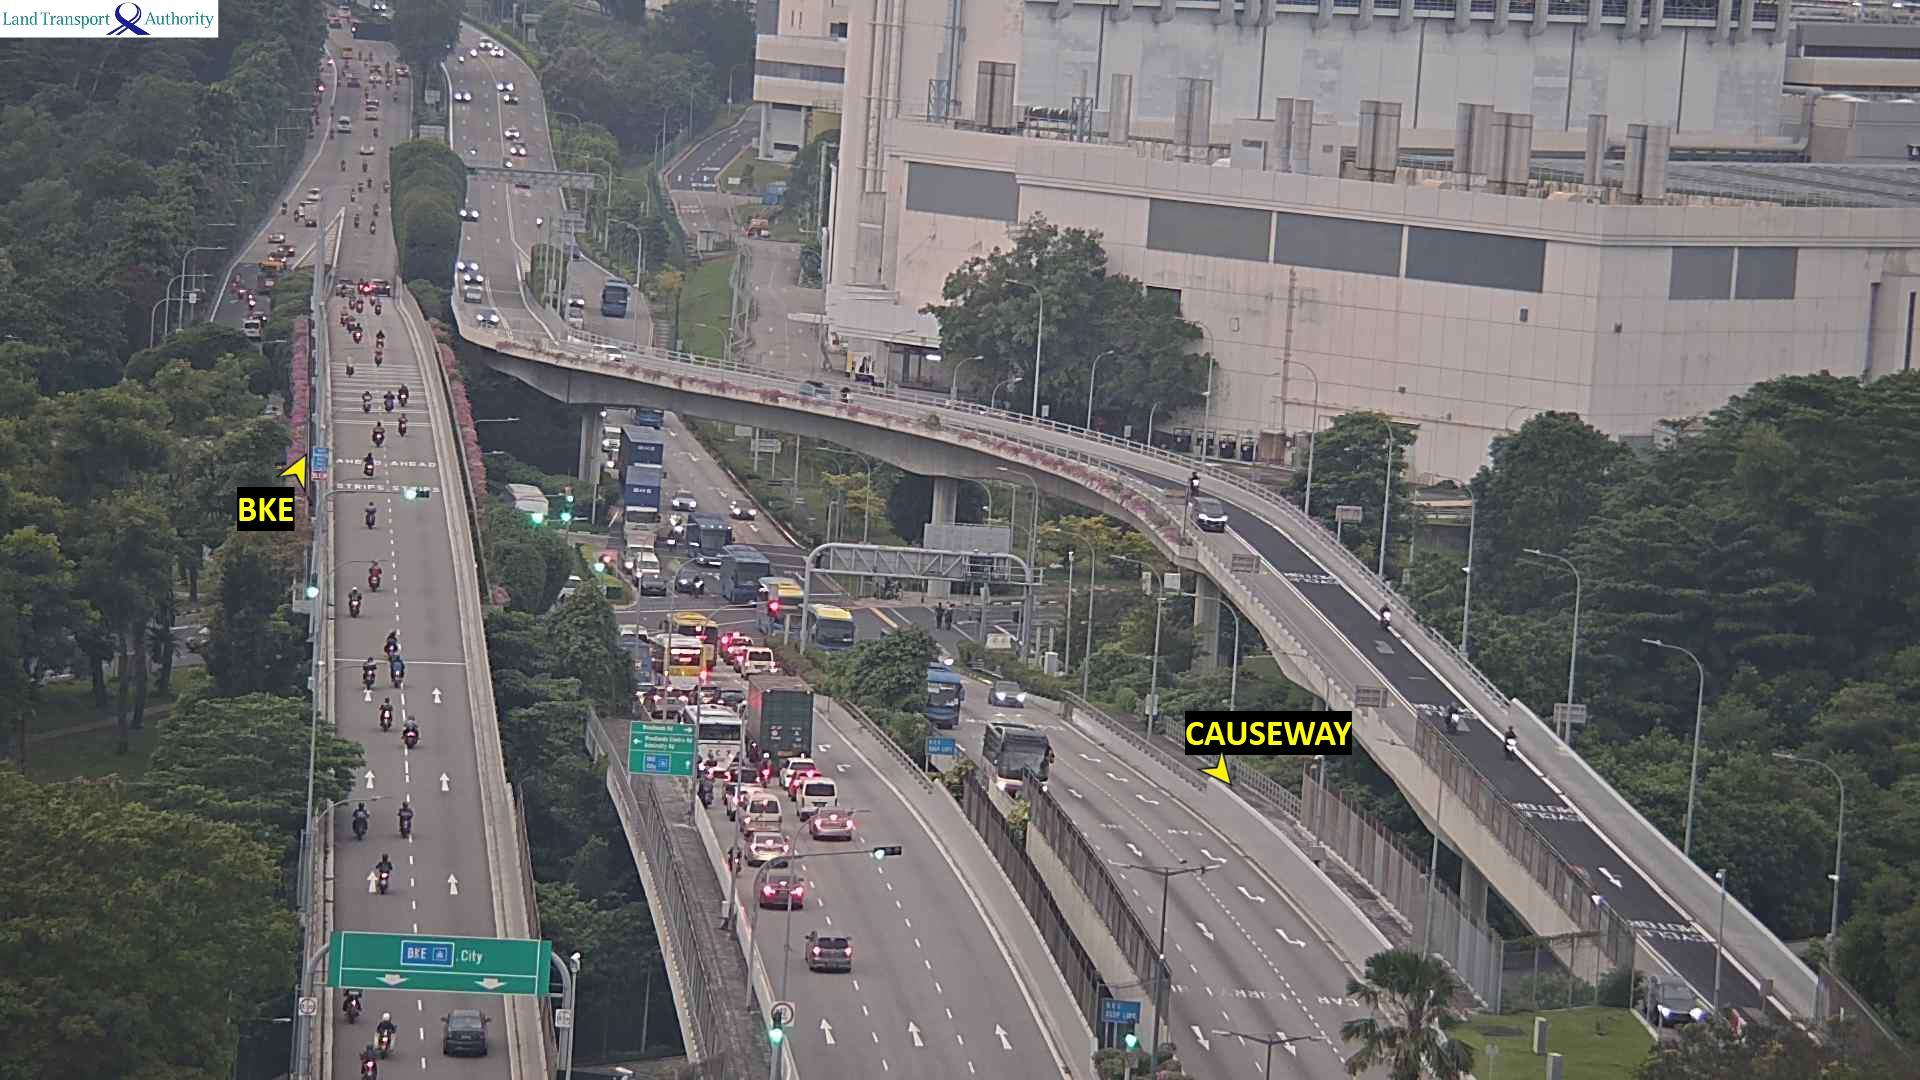vehicle-causeway-johor: (982, 719, 1051, 796), (719, 543, 769, 604), (760, 575, 802, 640), (688, 512, 733, 566), (922, 666, 964, 721), (807, 604, 856, 651), (1191, 497, 1225, 527), (990, 680, 1022, 711), (589, 344, 626, 367), (800, 378, 831, 404), (476, 307, 500, 328), (1378, 603, 1390, 630), (1188, 472, 1199, 497), (462, 207, 480, 220), (459, 258, 479, 270), (465, 286, 480, 302), (841, 385, 852, 406), (465, 273, 483, 284)
vehicle-causeway-singapore: (748, 678, 812, 767), (684, 707, 742, 778), (650, 633, 704, 687), (663, 613, 717, 667), (618, 625, 657, 686), (442, 1009, 489, 1058), (804, 927, 852, 972), (758, 865, 802, 910), (744, 832, 789, 866), (738, 794, 779, 829), (810, 808, 849, 844), (799, 778, 836, 814), (742, 646, 774, 678), (377, 1011, 396, 1050), (397, 803, 414, 843), (342, 992, 361, 1021), (353, 802, 368, 837), (377, 856, 392, 890), (727, 845, 741, 878), (700, 771, 713, 807), (404, 717, 417, 750), (361, 1046, 373, 1080), (762, 753, 773, 787), (380, 696, 390, 728), (364, 501, 377, 526), (363, 657, 375, 682), (385, 630, 398, 653), (335, 280, 353, 295), (371, 280, 390, 294), (351, 585, 360, 616), (371, 562, 380, 591), (396, 655, 405, 683), (364, 454, 375, 473), (396, 415, 407, 433), (375, 422, 384, 442), (345, 353, 353, 376), (361, 390, 371, 409), (400, 386, 409, 405), (355, 323, 364, 342), (384, 389, 392, 410), (375, 347, 382, 367), (377, 328, 385, 345), (356, 297, 364, 313), (347, 295, 355, 309), (340, 306, 345, 324), (347, 315, 352, 334), (364, 282, 369, 294), (359, 278, 363, 293), (376, 303, 380, 315)
